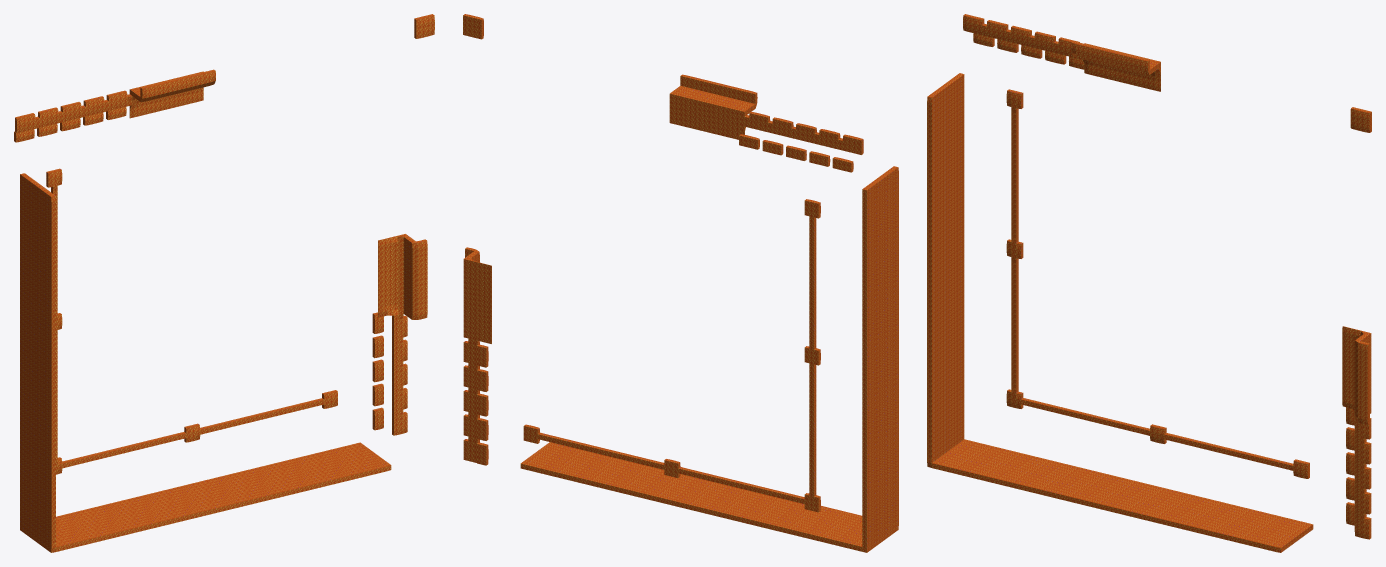
File: lava.obj
3 renders of one model, left to right at view 1: azimuth 30°, elevation 25°; view 2: azimuth 150°, elevation 25°; view 3: azimuth 330°, elevation 25°, orthographic. The views are drawn at different scales.
Visible parts, largest first — view 1: Stationary_Lava; view 2: Stationary_Lava; view 3: Stationary_Lava.
Boxes of the visible parts, bbox=[...] form: Stationary_Lava: bbox=[14, 14, 434, 552]; Stationary_Lava: bbox=[463, 14, 898, 552]; Stationary_Lava: bbox=[927, 14, 1371, 552].
Size of the model in its own units: 88 by 88 by 15.86.
Materials: 2 (2 with a texture image).
